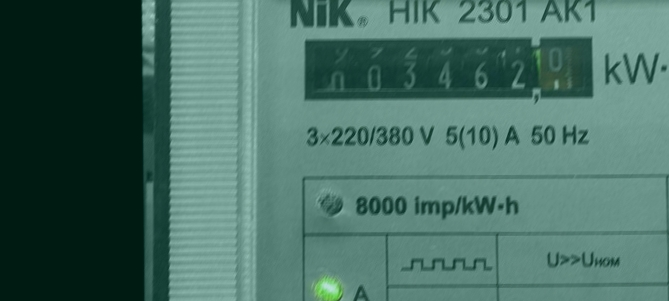0: (365, 62, 383, 91), (547, 46, 564, 74), (327, 68, 346, 92)
2: (509, 58, 527, 90)
3: (400, 60, 418, 92)
4: (437, 59, 454, 91)
6: (471, 58, 491, 92)
9: (330, 46, 350, 66)
screen: (292, 25, 605, 119)
